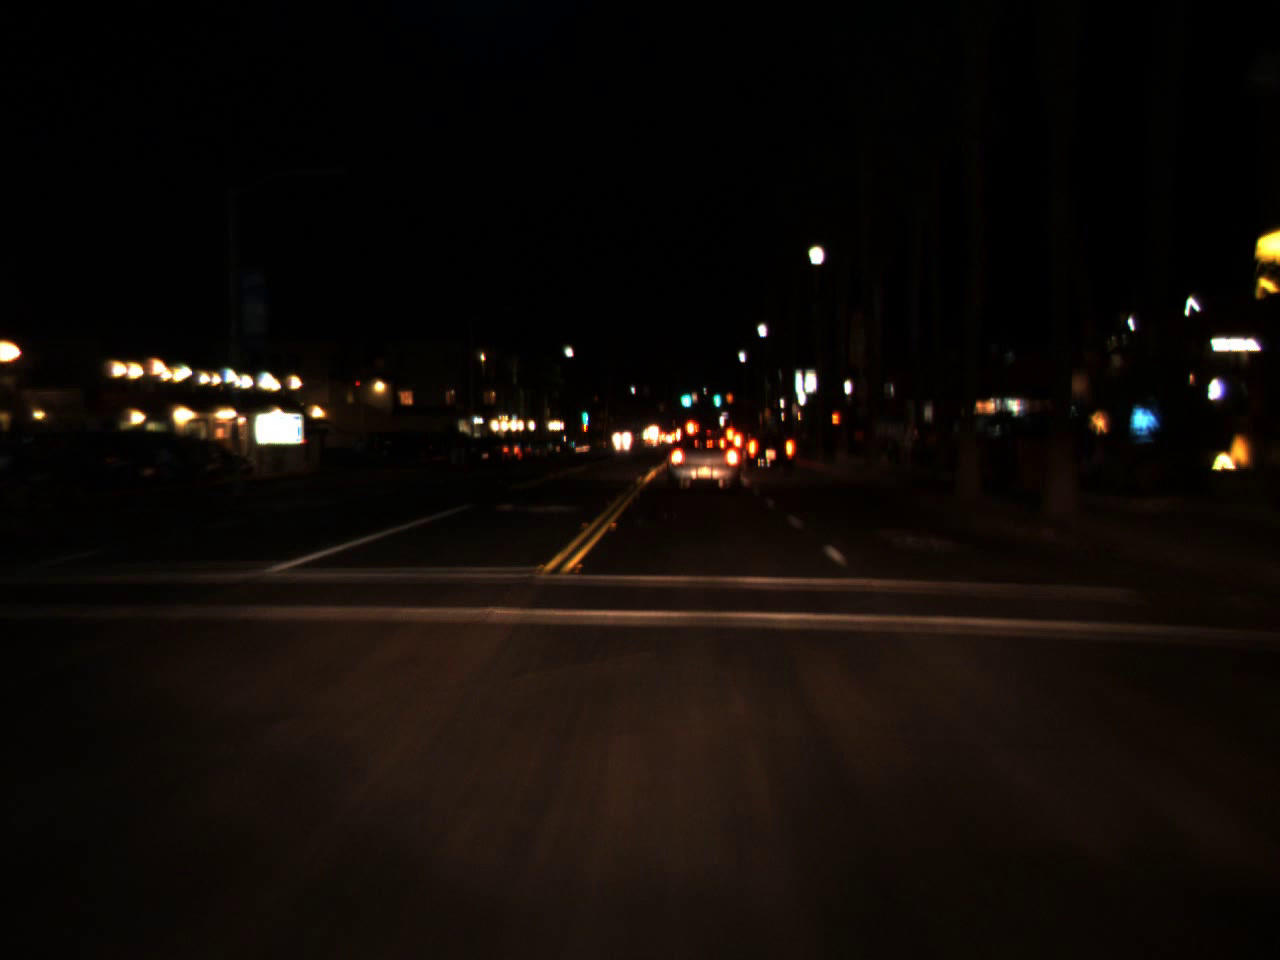go: (677, 377, 693, 413), (711, 381, 721, 411), (580, 399, 587, 426)
